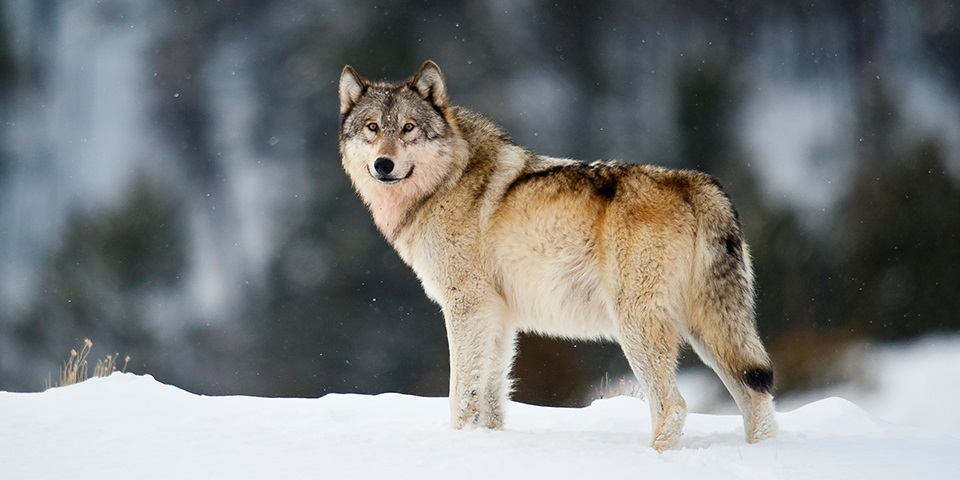wolf: (309, 62, 838, 480)
